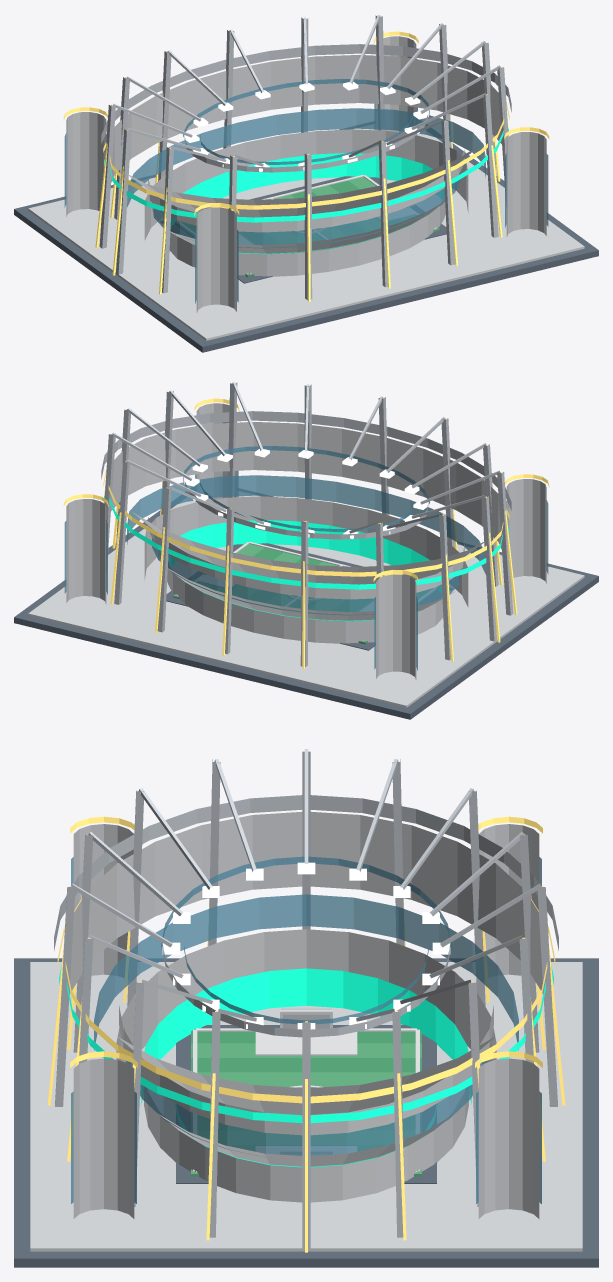
The model's file is stadium_bowl_core.glb.
3 views of the same model, one above another, from view 1: azimuth 30°, elevation 25°; view 2: azimuth 150°, elevation 25°; view 3: azimuth 270°, elevation 25° (orthographic). The views are drawn at different scales.
Visible parts, largest first — view 1: stadium_bowl_core; view 2: stadium_bowl_core; view 3: stadium_bowl_core.
Boxes of the visible parts, x1,y1,x2,y2 form: stadium_bowl_core: (14, 15, 598, 352); stadium_bowl_core: (14, 382, 598, 719); stadium_bowl_core: (14, 749, 598, 1267).
Bounding box in the file's own units: 5.68 × 2.06 × 4.68.
